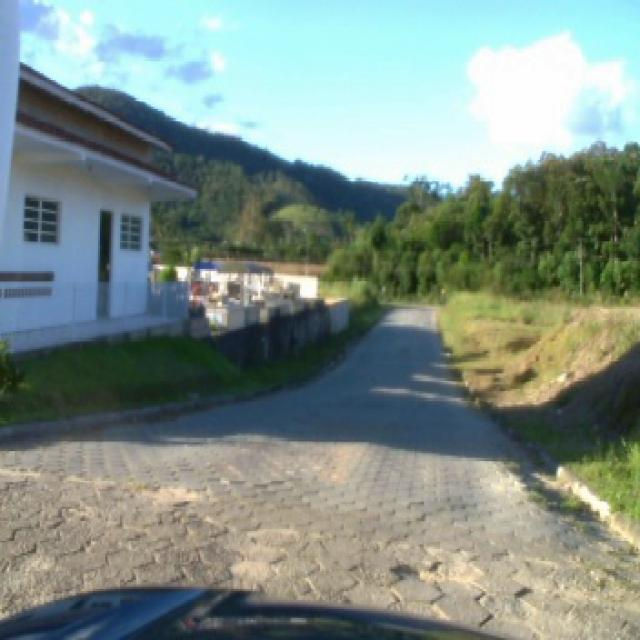Poth-hole: (134, 482, 210, 527), (386, 556, 484, 586), (513, 582, 531, 600)
